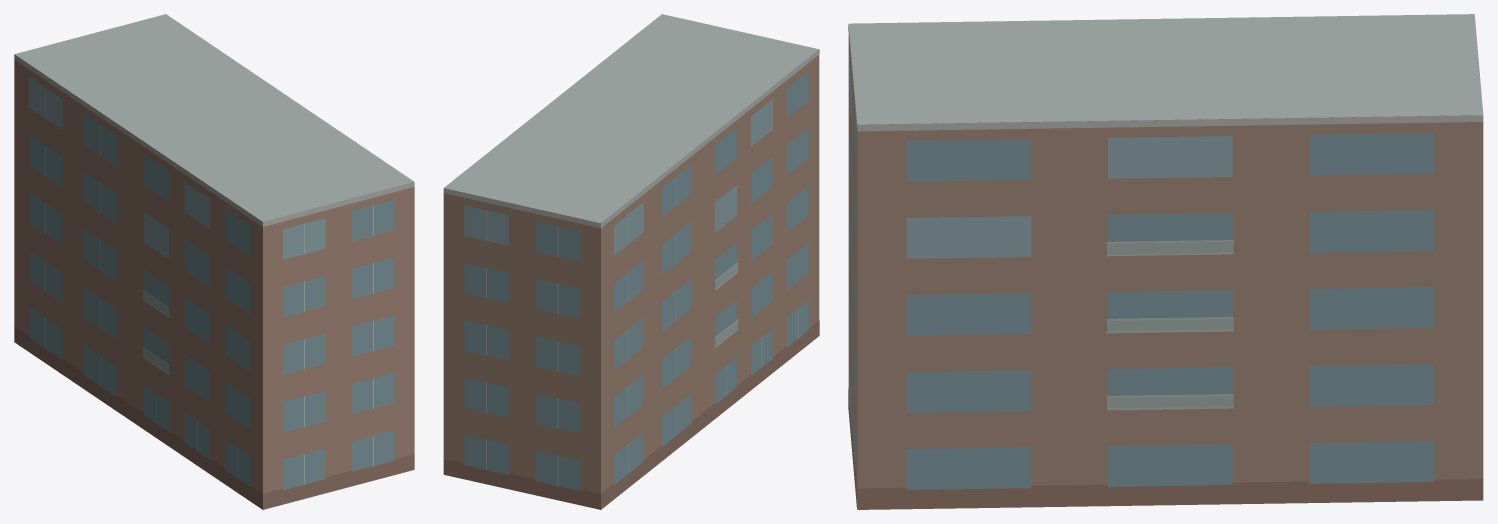
Rendered from survey-upis-32611058.glb.
3 renders of one model, left to right at view 1: azimuth 30°, elevation 25°; view 2: azimuth 150°, elevation 25°; view 3: azimuth 270°, elevation 25°, orthographic. The views are drawn at different scales.
Parts seen in each view (by area): view 1: survey-upis-32611058.tmp; view 2: survey-upis-32611058.tmp; view 3: survey-upis-32611058.tmp.
Boxes of the visible parts, left/top/right/bottom form: survey-upis-32611058.tmp: left=14, top=14, right=414, bottom=509; survey-upis-32611058.tmp: left=443, top=14, right=819, bottom=509; survey-upis-32611058.tmp: left=848, top=14, right=1483, bottom=509.
Bounding box in the file's own units: 8.51 × 13.8 × 20.62.
